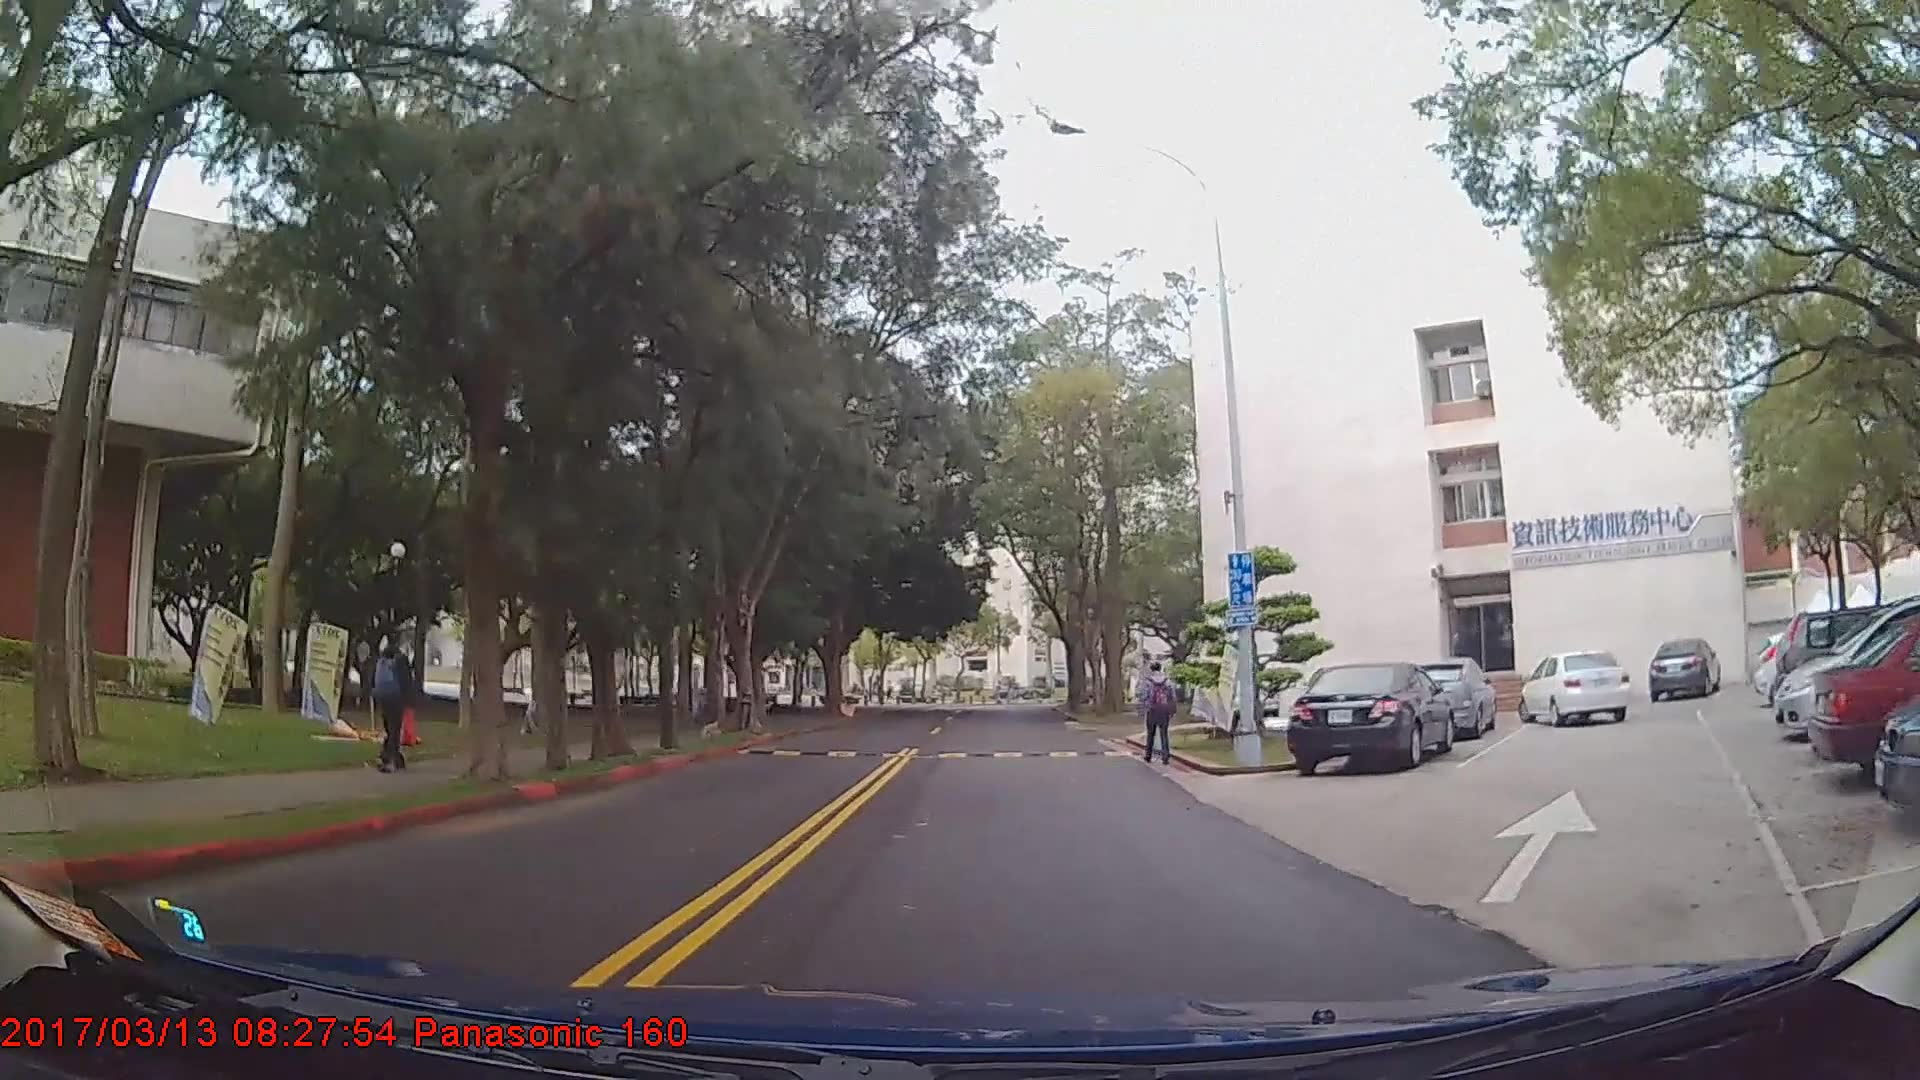pedestrian: (371, 633, 428, 782), (1143, 660, 1183, 773)
vehicle: (1774, 595, 1920, 740), (1285, 662, 1452, 777), (1777, 607, 1920, 724), (1519, 651, 1630, 728), (1399, 655, 1500, 738), (1647, 634, 1721, 699)
